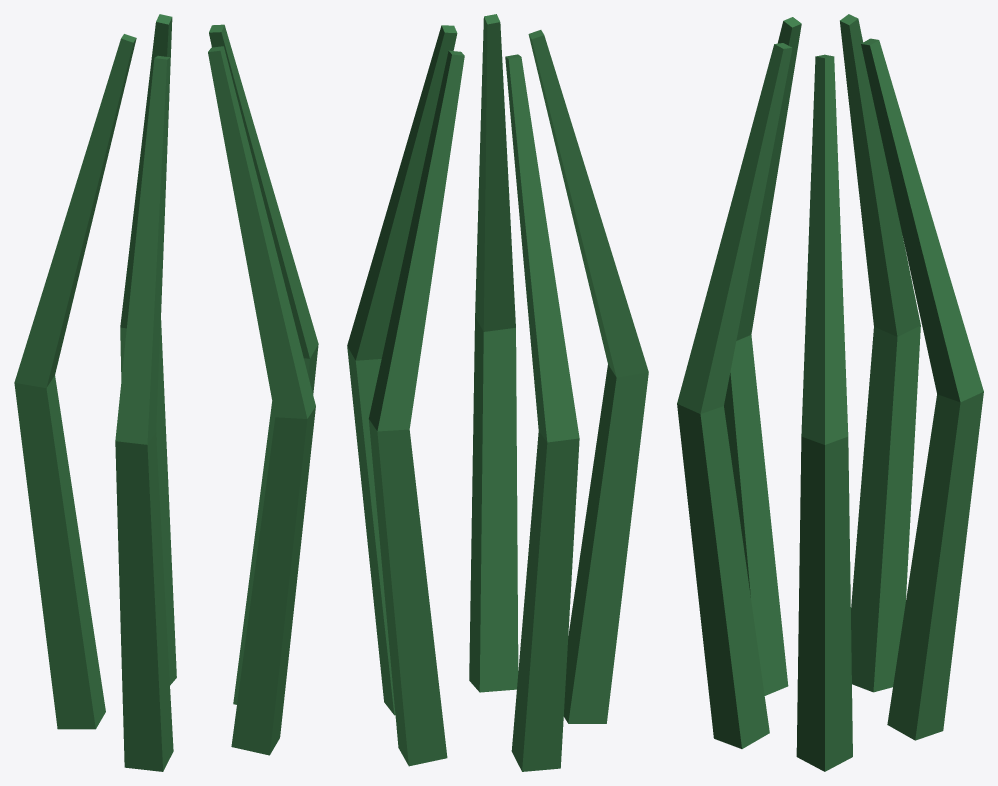
Rendered from kelp_clump.glb.
3 views of the same model, side by side, from view 1: azimuth 30°, elevation 25°; view 2: azimuth 150°, elevation 25°; view 3: azimuth 270°, elevation 25° (orthographic).
Visible parts, largest first — view 1: kelp_clump; view 2: kelp_clump; view 3: kelp_clump.
Boxes of the visible parts, x1,y1,x2,y2 form: kelp_clump: (14, 14, 318, 771); kelp_clump: (347, 14, 648, 771); kelp_clump: (677, 14, 983, 771).
Bounding box in the file's own units: 0.6569 × 1.61 × 0.6539.
